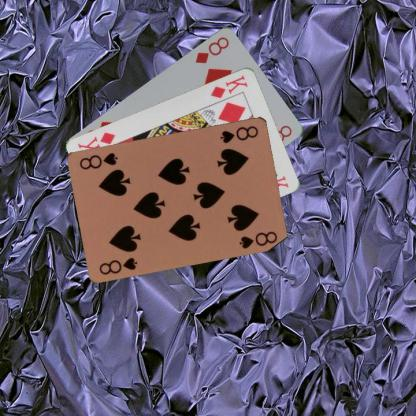8d: (192, 34, 230, 64)
8s: (218, 122, 260, 145), (96, 254, 138, 276)
Kd: (207, 72, 249, 99)
